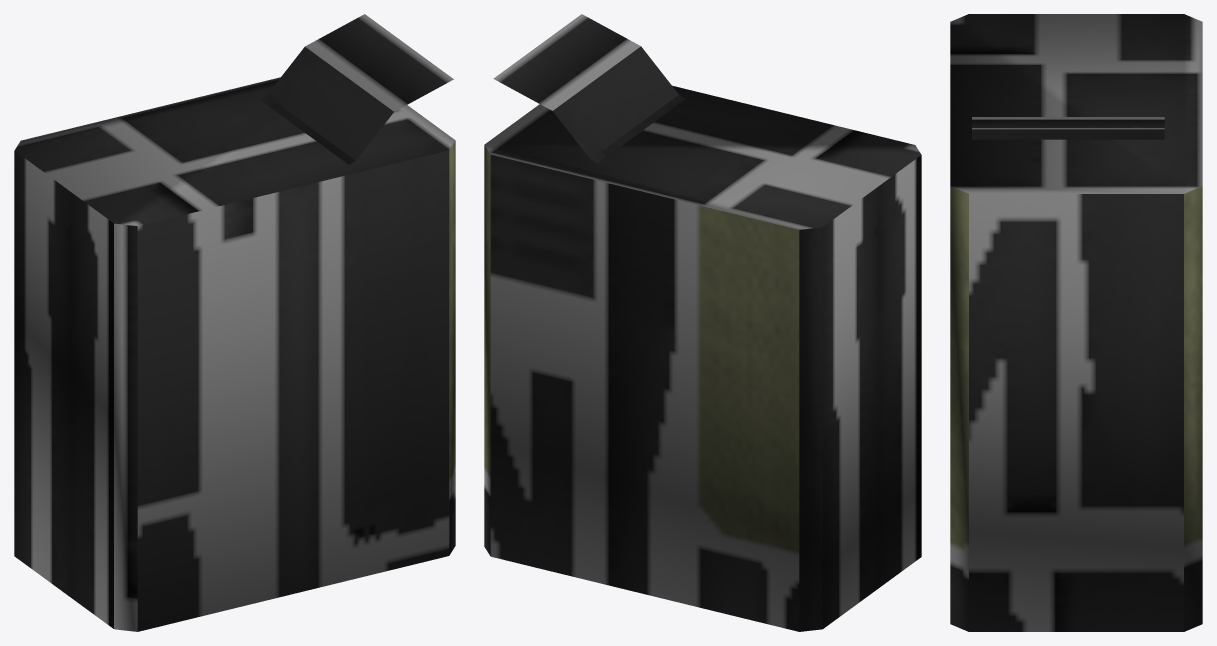
Rendered from M60_Mag.fbx.
The picture shows the model from 3 angles, left to right: view 1: azimuth 30°, elevation 25°; view 2: azimuth 150°, elevation 25°; view 3: azimuth 270°, elevation 25°; orthographic projection. The views are drawn at different scales.
Visible parts, largest first — view 1: M60.010; view 2: M60.010; view 3: M60.010.
Part boxes in pixels (x1,y1,x2,y2): M60.010: (14, 14, 455, 631); M60.010: (484, 14, 921, 631); M60.010: (950, 14, 1202, 631).
Size of the model in its own units: 0.0824 by 0.0489 by 0.1074.
